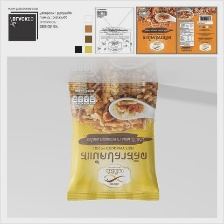snack: (59, 74, 164, 209)
